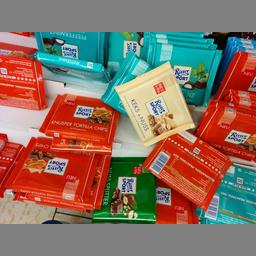chocolate: (140, 127, 226, 202), (118, 66, 196, 140), (6, 134, 92, 196), (142, 40, 212, 104), (92, 154, 156, 218), (40, 92, 115, 140), (196, 103, 254, 159), (34, 50, 108, 84), (0, 54, 40, 108)
